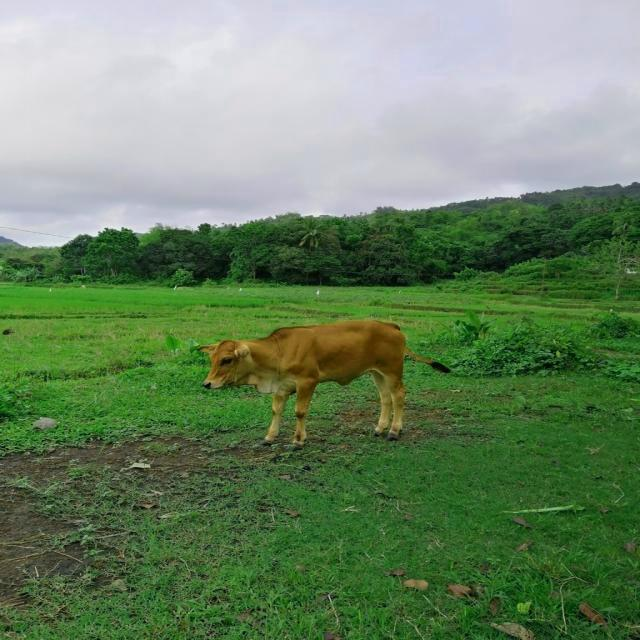cow: (204, 320, 406, 447)
